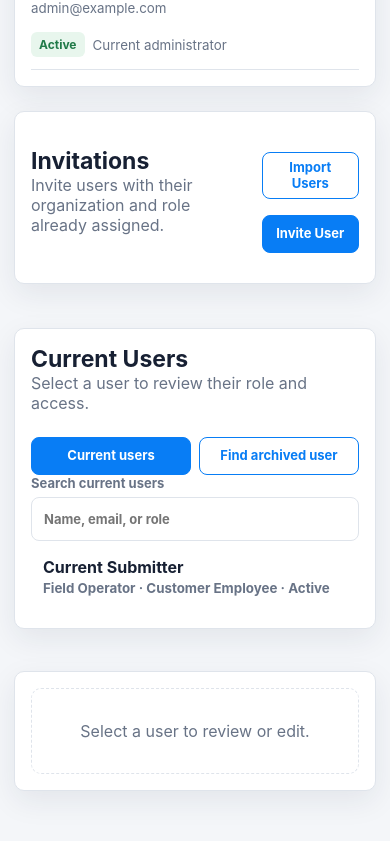
organization admins can find an archived user and review retained activity
This screenshot has width=390, height=841.
(page scrolled)
Expected: the text "Current Submitter" is shown, [43,557,184,577]
Click the button "Find archived user".
click(279, 456)  # box [199,437,359,475]
(page scrolled)
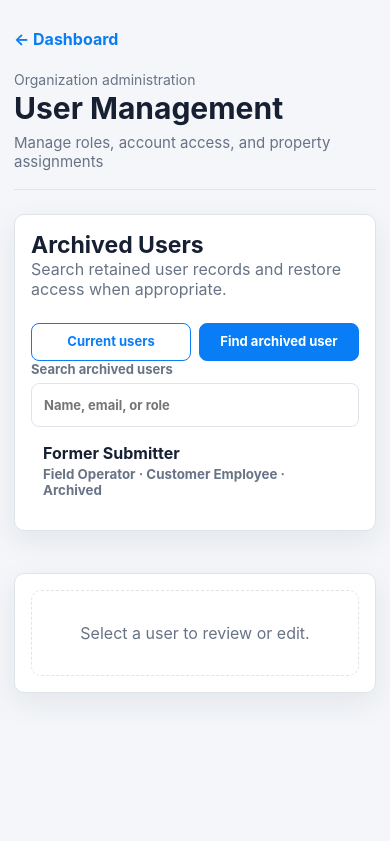
Click the button "Former Submitter".
click(195, 470)  # box [31,431,359,510]
(page scrolled)
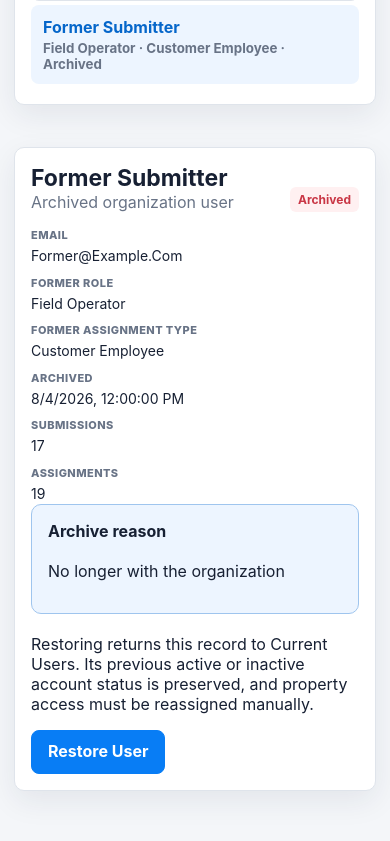
Now the text "No longer with the organization" is shown, box [48,561,285,581]
Now the text "17" is shown, box [31,437,45,454]
Now the text "19" is shown, box [31,485,45,502]
